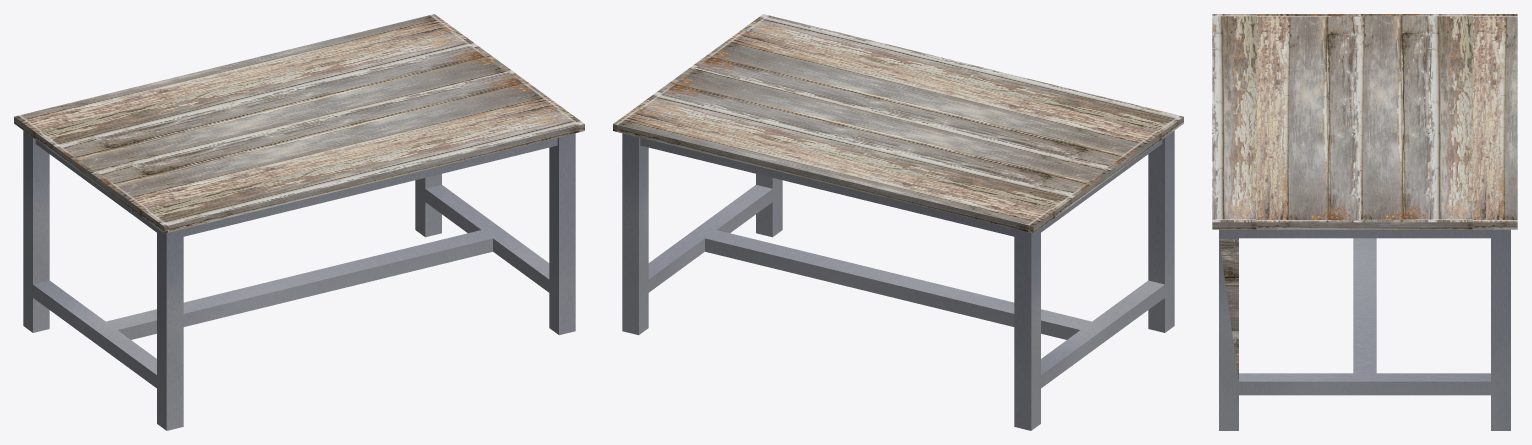
File: Table.FBX
3 views of the same model, side by side, from view 1: azimuth 30°, elevation 25°; view 2: azimuth 150°, elevation 25°; view 3: azimuth 270°, elevation 25° (orthographic).
Visible parts, largest first — view 1: Table; view 2: Table; view 3: Table.
Boxes of the visible parts, x1,y1,x2,y2 form: Table: (14,14,584,430); Table: (613,14,1183,430); Table: (1212,14,1517,430).
Size of the model in its own units: 105 by 49.67 by 65.
